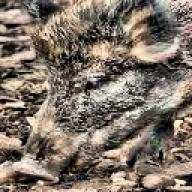boar: (0, 0, 192, 188)
